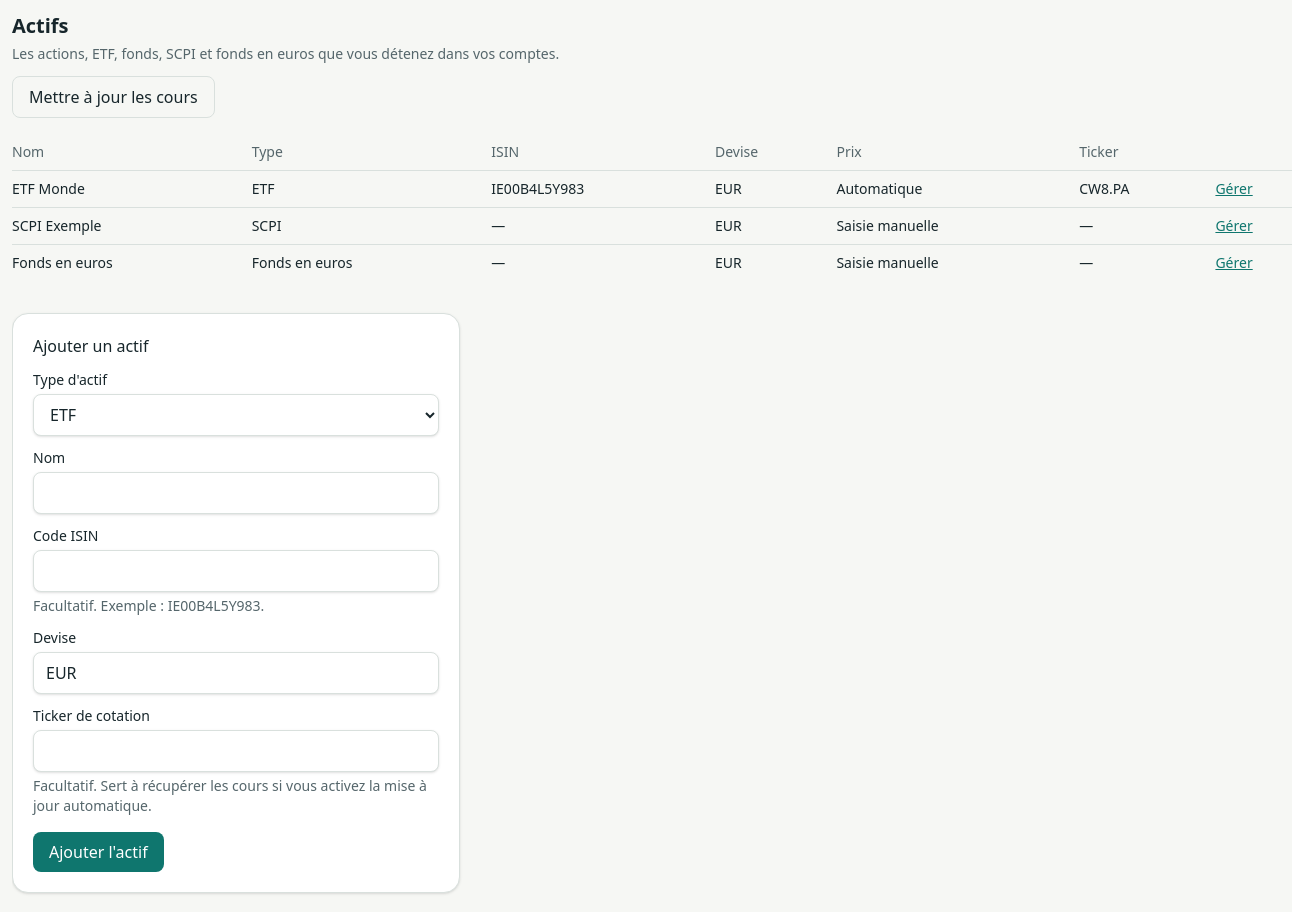
it: mise à jour des cours › affiche une erreur réseau
Click the button "Mettre à jour les cours". click: (113, 97)
box: top-left (12, 76), bottom-right (215, 118)
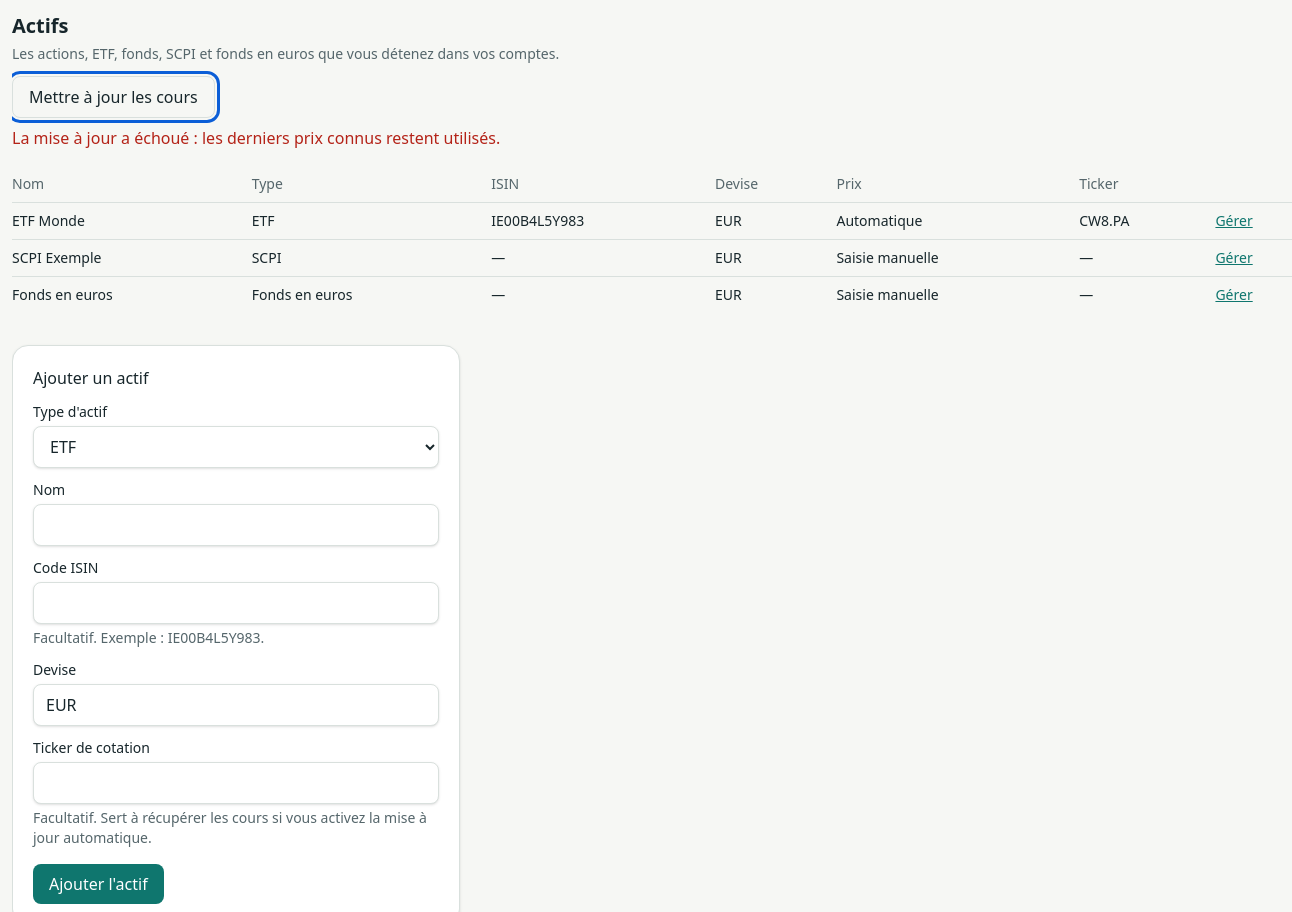
Check: the message shows "mise à jour", box top-left (12, 127), bottom-right (500, 149)
